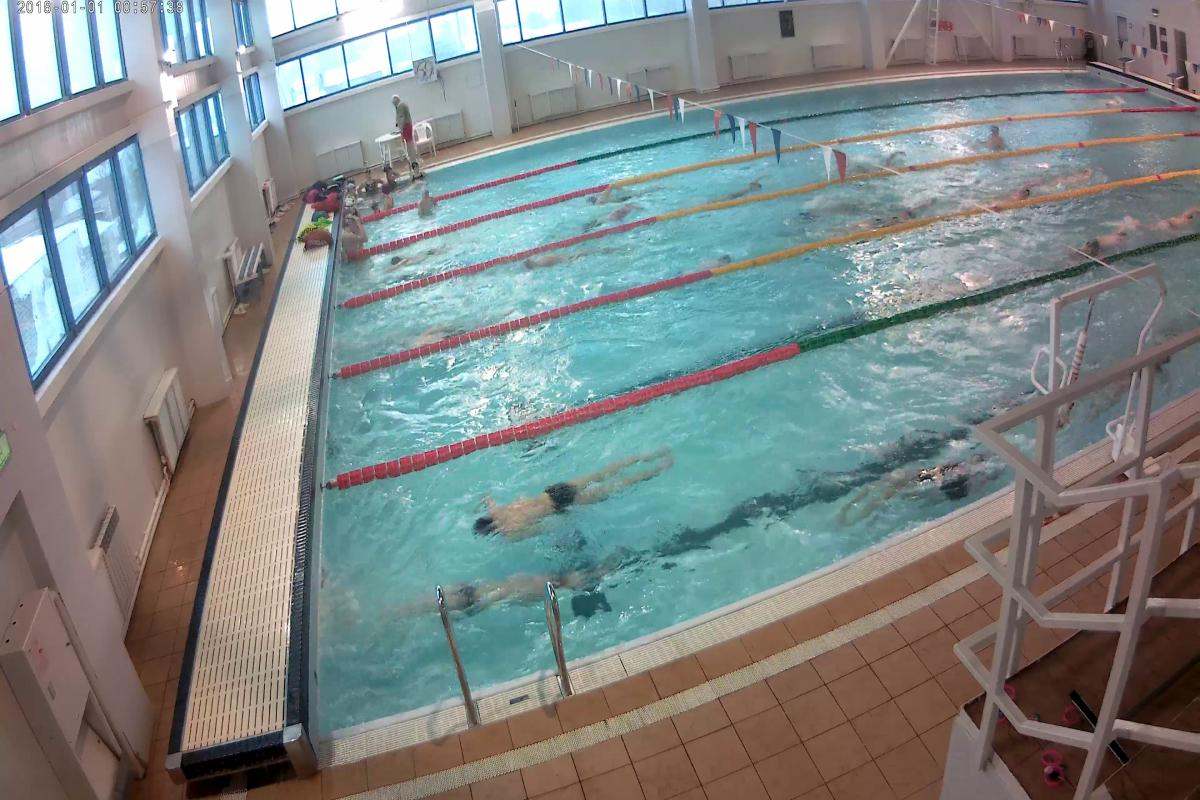swimmer: (475, 445, 655, 542), (1066, 215, 1132, 266), (390, 240, 458, 274), (526, 247, 582, 279), (1156, 200, 1196, 237), (410, 186, 442, 222), (978, 122, 1021, 148), (592, 205, 638, 228), (1005, 174, 1042, 198)
